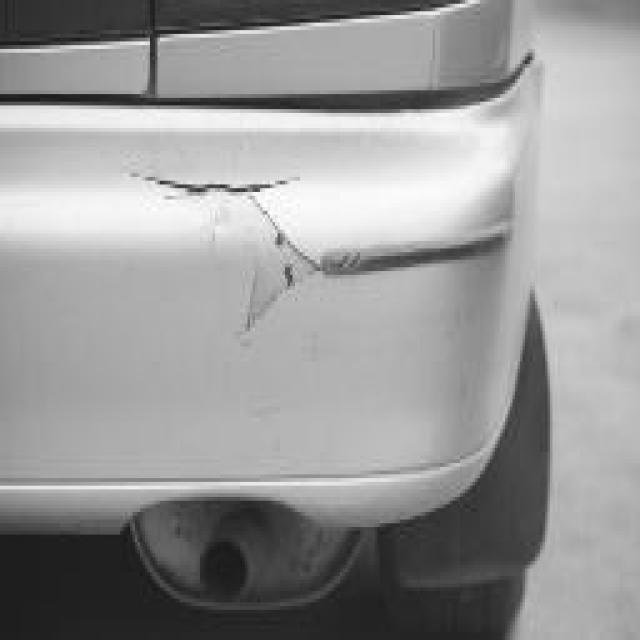Bumper: (2, 117, 535, 429)
